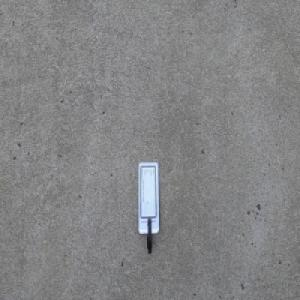LuggageTag: (137, 161, 159, 255)
